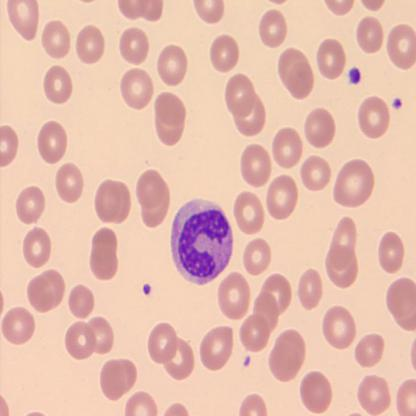Band Neutrophil: (168, 196, 237, 286)
